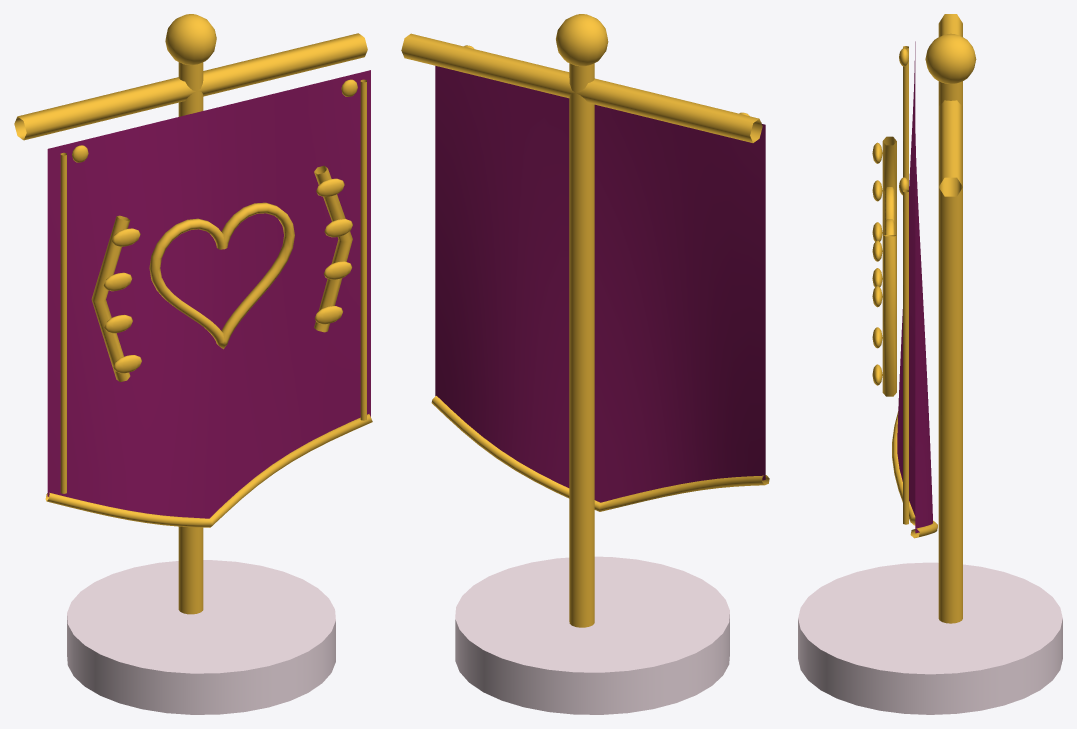
File: prime.banner.arena.glb
3 views of the same model, side by side, from view 1: azimuth 30°, elevation 25°; view 2: azimuth 150°, elevation 25°; view 3: azimuth 270°, elevation 25° (orthographic). The views are drawn at different scales.
Visible parts, largest first — view 1: banner_cloth, banner_foot, crossbar, embroidered_crest, banner_hem, banner_pole, banner_edge_braid.001, banner_edge_braid, banner_finial, laurel, laurel.001; view 2: banner_cloth, banner_foot, banner_pole, crossbar, banner_hem, banner_finial; view 3: banner_foot, banner_pole, banner_cloth, crossbar, laurel.001, banner_finial, banner_edge_braid.001, laurel, banner_hem, banner_edge_braid, embroidered_crest.
Boxes of the visible parts, x1,y1,x2,y2 form: banner_cloth: (47, 70, 370, 518); banner_foot: (67, 560, 335, 714); crossbar: (14, 33, 367, 140); embroidered_crest: (149, 202, 294, 349); banner_hem: (45, 414, 372, 527); banner_pole: (178, 62, 203, 614); banner_edge_braid.001: (360, 79, 366, 420); banner_edge_braid: (60, 152, 66, 493); banner_finial: (165, 14, 216, 65); laurel: (91, 215, 130, 381); laurel.001: (314, 165, 352, 332); banner_cloth: (435, 66, 765, 502); banner_foot: (455, 556, 729, 714); banner_pole: (569, 63, 594, 627); crossbar: (401, 33, 762, 142); banner_hem: (431, 396, 769, 511); banner_finial: (556, 14, 608, 66); banner_foot: (798, 562, 1062, 714); banner_pole: (938, 81, 962, 623); banner_cloth: (897, 41, 932, 533); crossbar: (938, 14, 962, 196); laurel.001: (882, 235, 896, 396); banner_finial: (925, 33, 976, 83); banner_edge_braid.001: (903, 189, 908, 524); laurel: (882, 136, 896, 235); banner_hem: (892, 411, 937, 538); banner_edge_braid: (903, 46, 908, 189); embroidered_crest: (884, 187, 894, 235).
Bounding box in the file's own units: 0.4222 × 0.75 × 0.2889.
